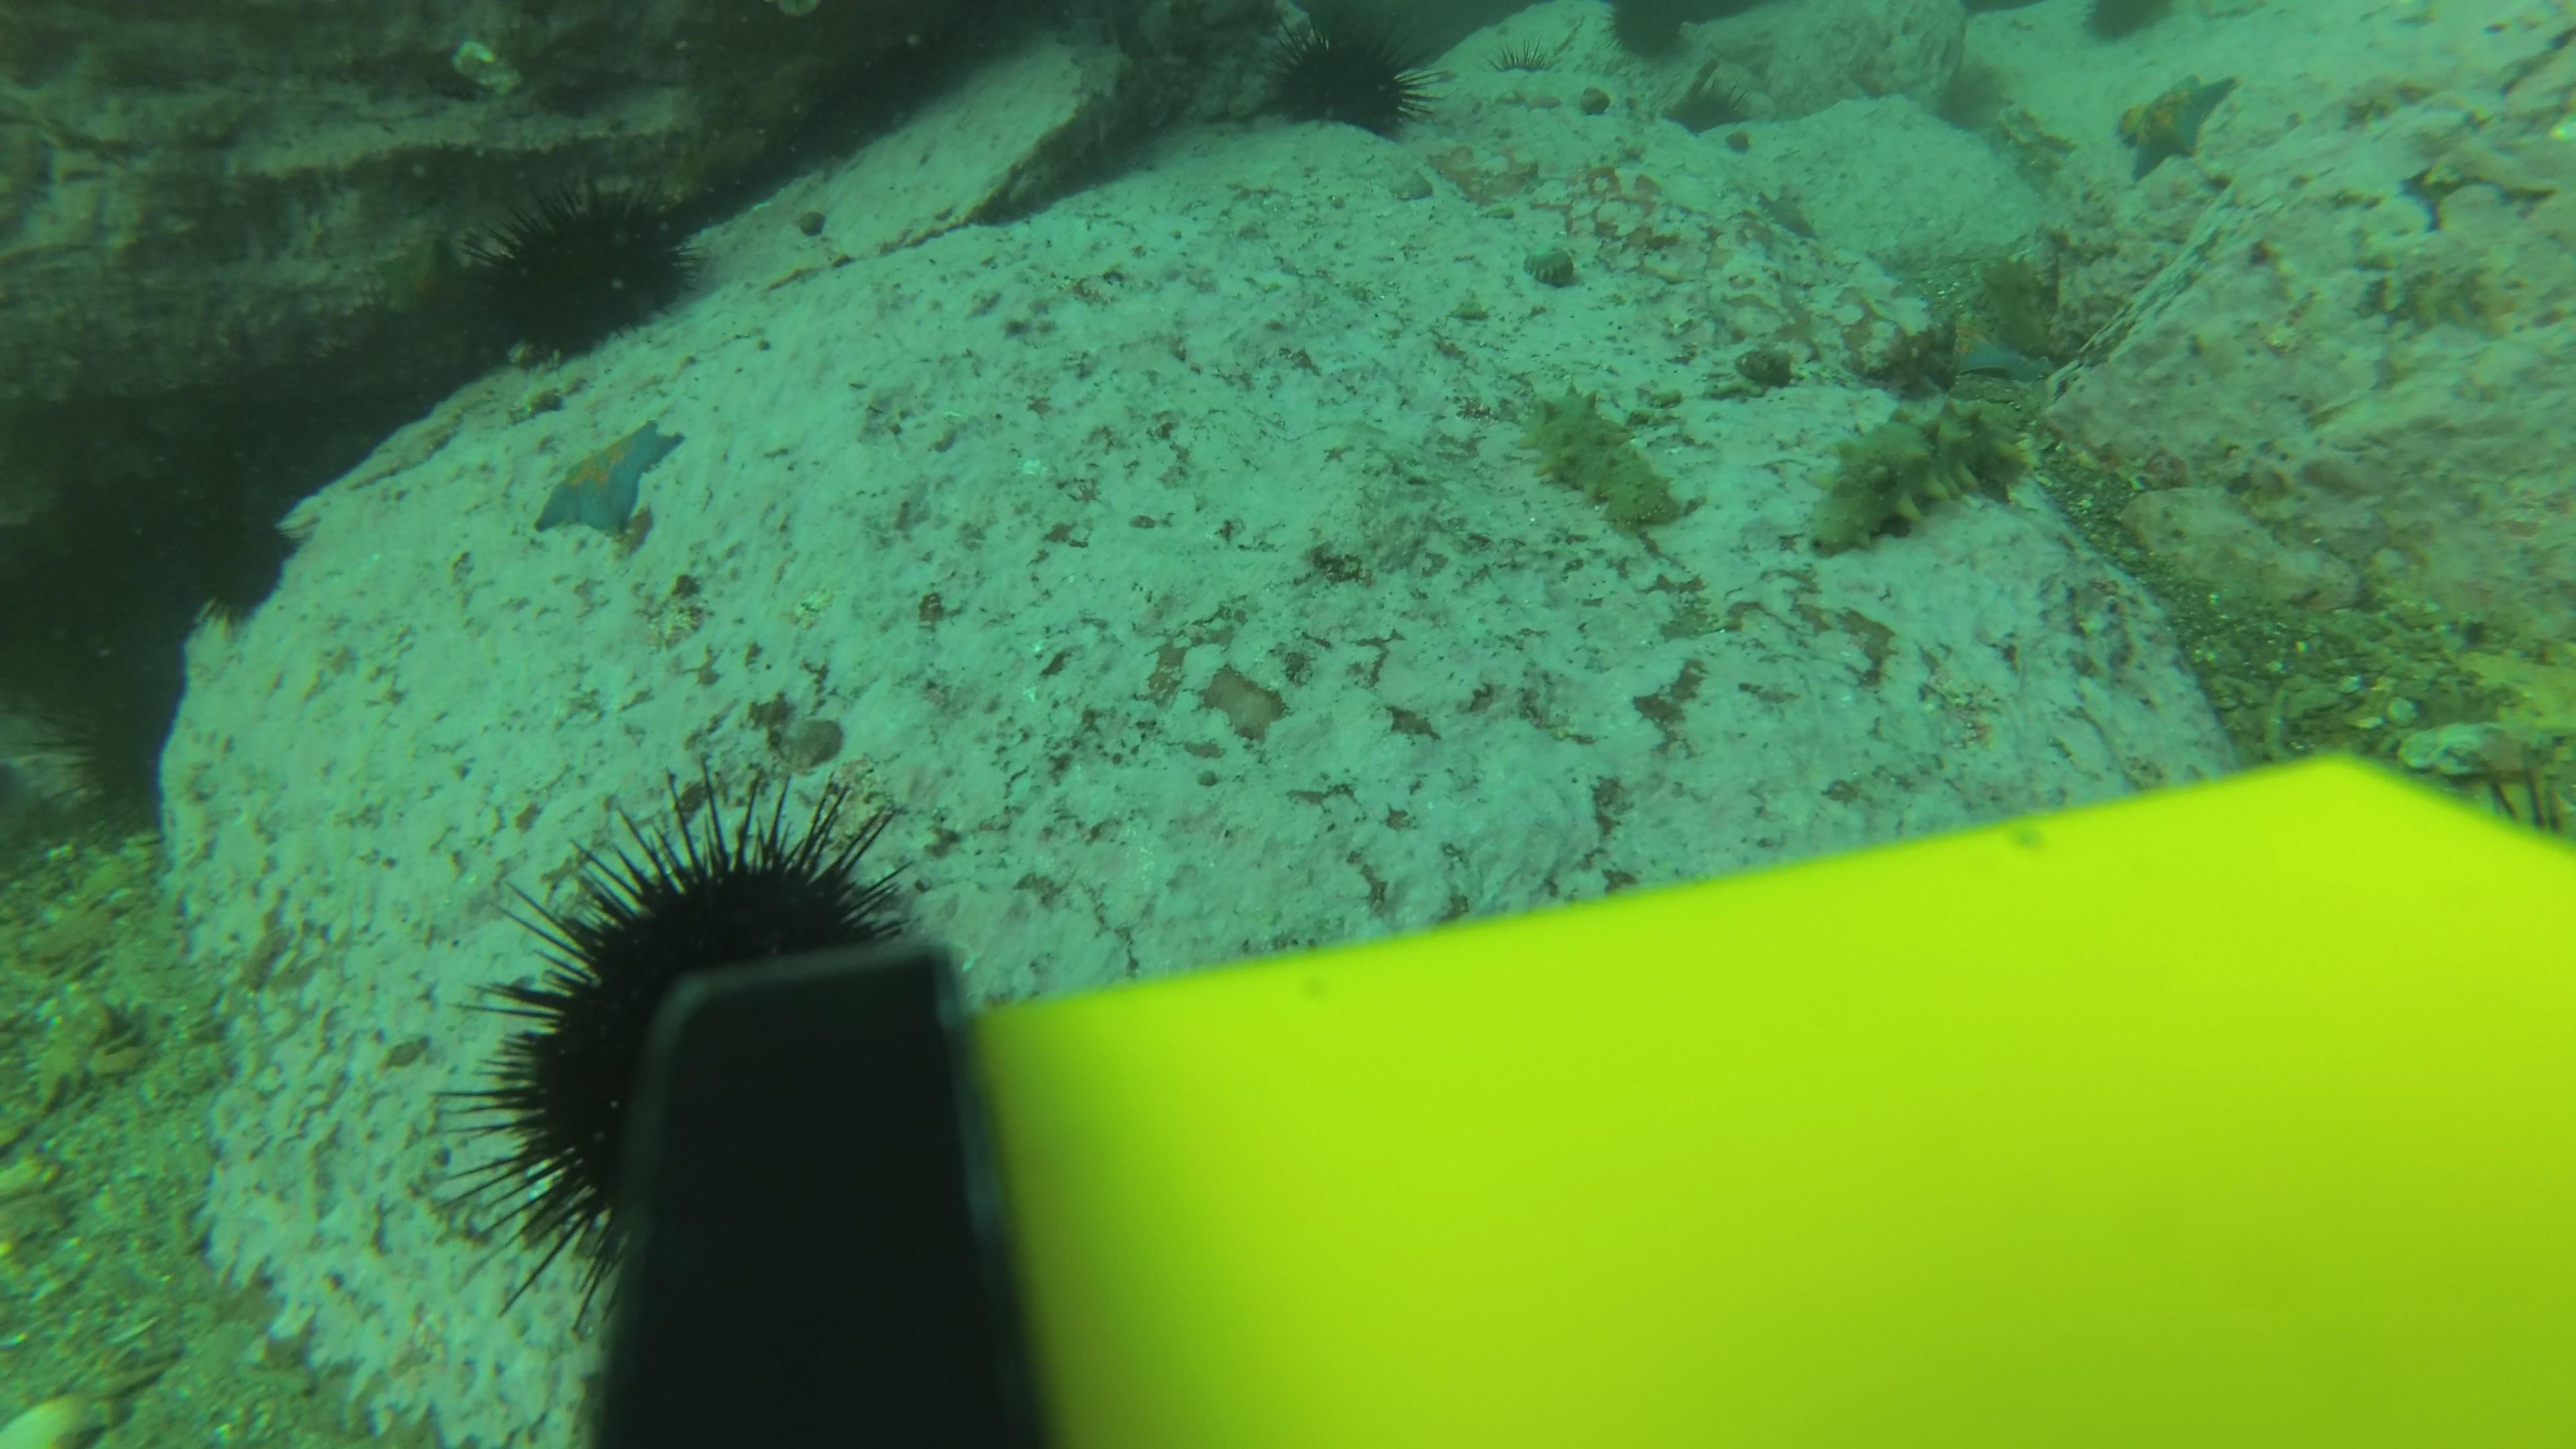urchin: (472, 801, 941, 1297), (446, 189, 731, 357), (1277, 19, 1440, 147), (182, 495, 317, 610)
